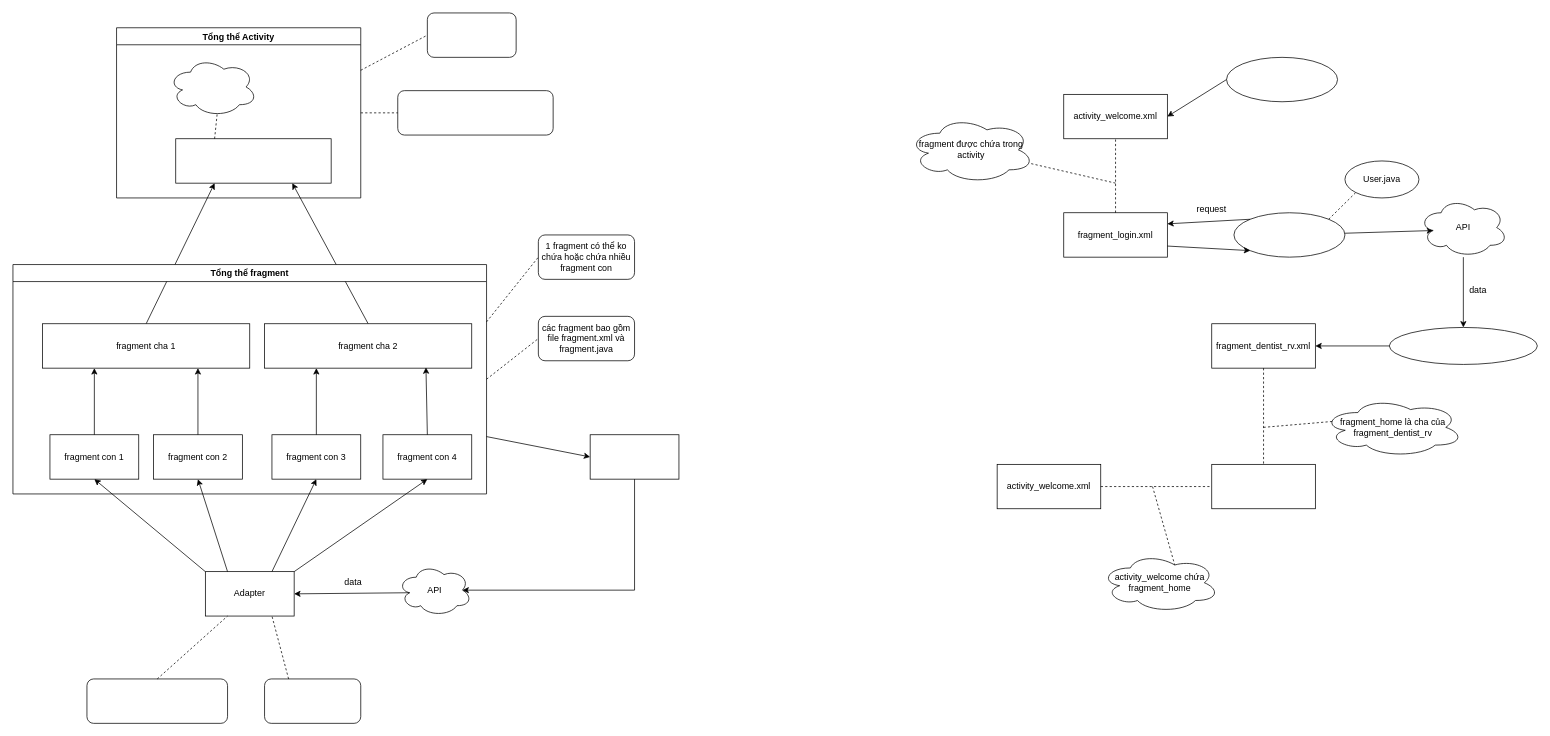
This 1550x736 diagram has some shape labels left out. The centre of each missing label's shape, as x and y in pixels:
"1 ativity có thể có 1 hoặc nhiều fragment" goes at (x=471, y=34).
"các activity bao gồm file activity.xml và activity.java" goes at (x=475, y=112).
"Dữ liệu, sự kiện từ người dùng (nhận từ fragment.java)" goes at (x=634, y=456).
"file dựng UI" goes at (x=212, y=87).
"fragment.xml sẽ nhận và hiển thị" goes at (x=312, y=700).
"fragment_home.xml" goes at (x=1263, y=486).
"HomeRvDentistAdapter.java" goes at (x=1463, y=345).
"layout --> .xml (các file activity)" goes at (x=253, y=160).
"LoginFragment.java" goes at (x=1289, y=234).
"Nơi nhận dữ liệu từ API và trả lên cho các fragment" goes at (x=157, y=700).
"WelcomeActivity.java" goes at (x=1282, y=79).
